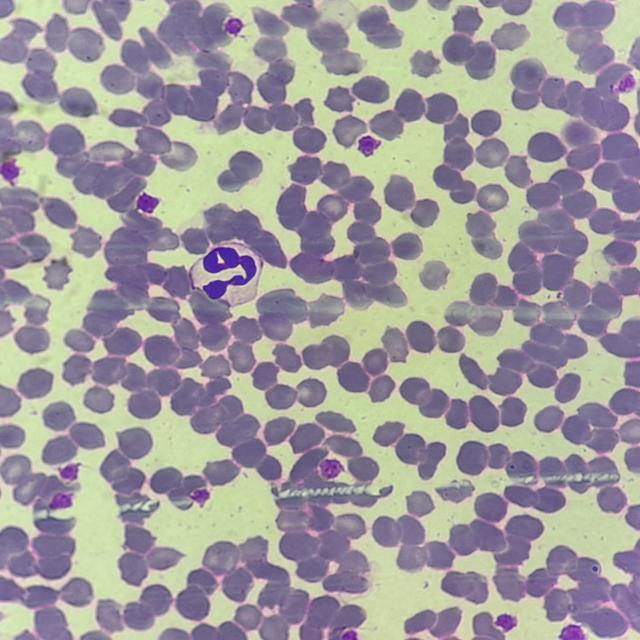Neutrofilo: (191, 242, 266, 306)
